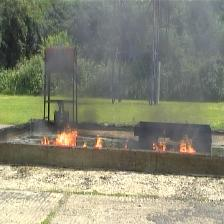fire: (41, 128, 79, 146), (178, 139, 197, 153), (152, 141, 168, 150), (95, 134, 104, 147)
